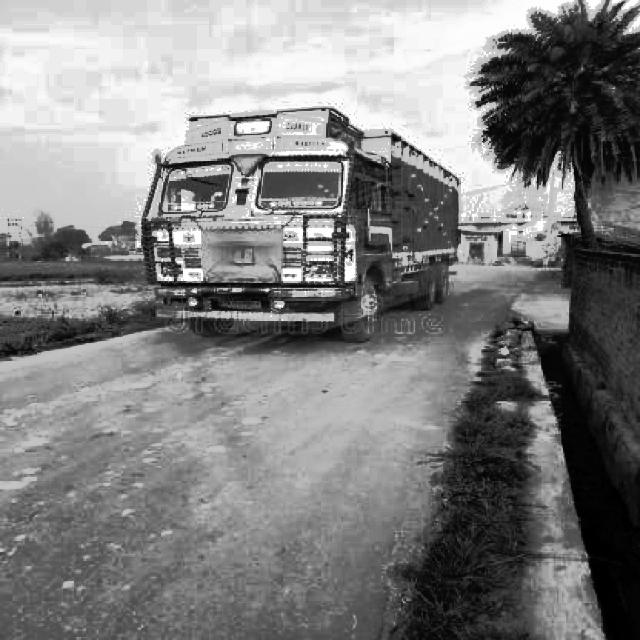HCV: (152, 120, 463, 327)
